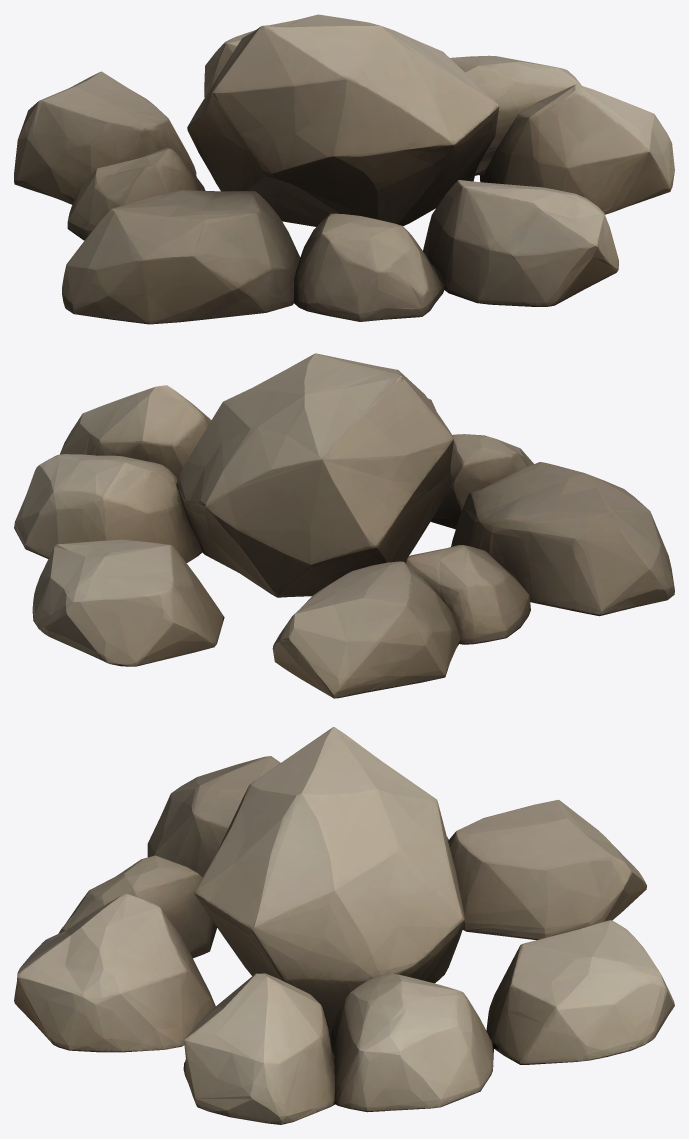
File: smooth_stone.glb
3 views of the same model, one above another, from view 1: azimuth 30°, elevation 25°; view 2: azimuth 150°, elevation 25°; view 3: azimuth 270°, elevation 25° (orthographic). The views are drawn at different scales.
Visible parts, largest first — view 1: world; view 2: world; view 3: world.
Part boxes in pixels (x1=…): world: x1=14, y1=14, x2=674, y2=324; world: x1=14, y1=353, x2=674, y2=698; world: x1=14, y1=727, x2=674, y2=1124.
Bounding box in the file's own units: 0.9898 × 0.3184 × 0.898.
Materials: 1 (1 with a texture image).
